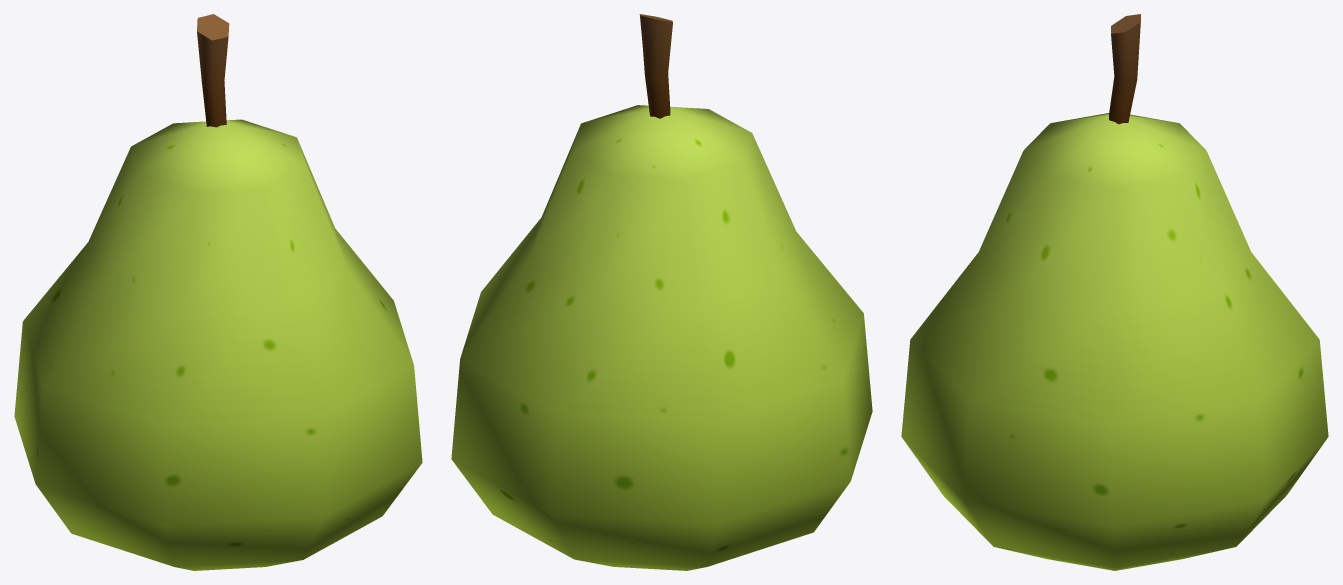
File: pear.fbx
3 views of the same model, side by side, from view 1: azimuth 30°, elevation 25°; view 2: azimuth 150°, elevation 25°; view 3: azimuth 270°, elevation 25° (orthographic). The views are drawn at different scales.
Visible parts, largest first — view 1: pear_mesh; view 2: pear_mesh; view 3: pear_mesh.
Boxes of the visible parts, x1=… form: pear_mesh: x1=14, y1=14, x2=422, y2=570; pear_mesh: x1=451, y1=14, x2=872, y2=570; pear_mesh: x1=901, y1=14, x2=1328, y2=570.
Size of the model in its own units: 0.4756 by 0.6545 by 0.4756.
